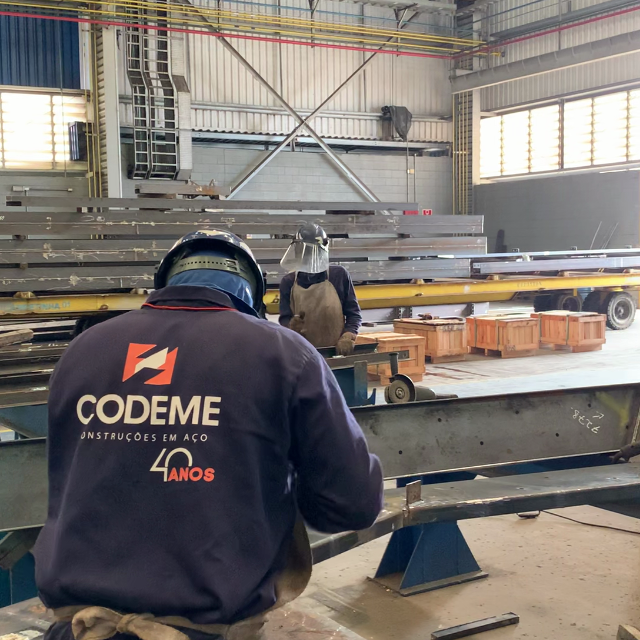face-shield: (280, 238, 329, 274)
glove: (336, 334, 357, 353)
helmet: (154, 227, 269, 315), (296, 222, 329, 243)
person: (28, 230, 387, 627), (276, 220, 362, 358)
